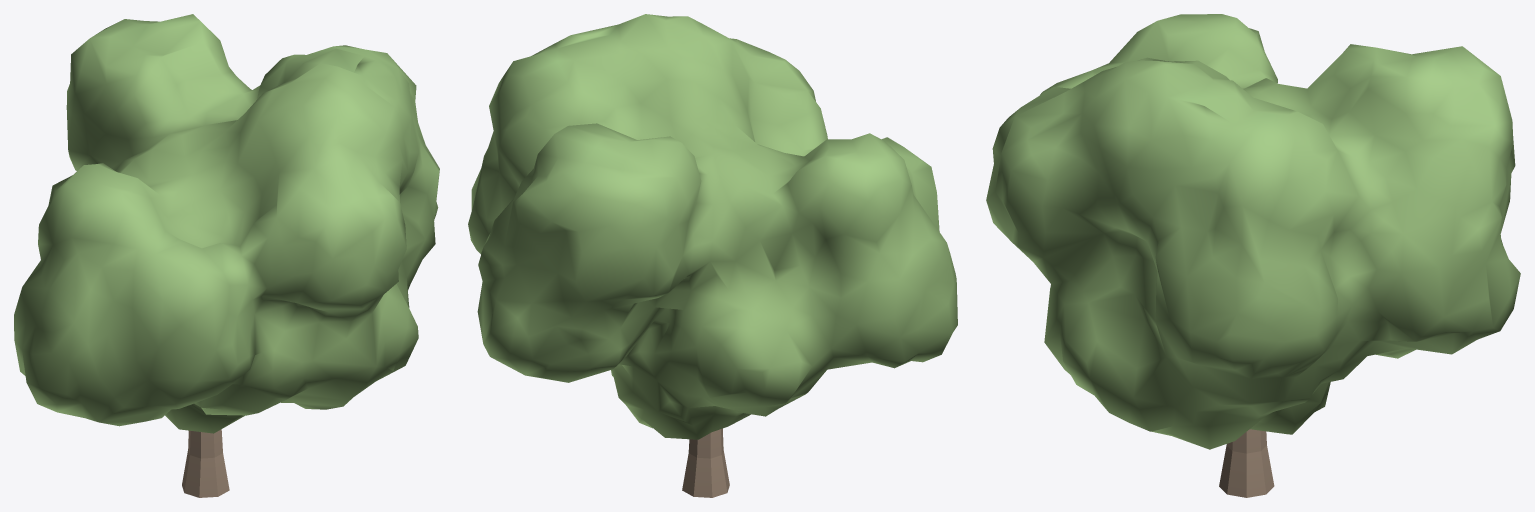
File: tree_maple.glb
The picture shows the model from 3 angles, left to right: view 1: azimuth 30°, elevation 25°; view 2: azimuth 150°, elevation 25°; view 3: azimuth 270°, elevation 25°; orthographic projection. The views are drawn at different scales.
Parts seen in each view (by area): view 1: tree_maple; view 2: tree_maple; view 3: tree_maple.
Boxes of the visible parts, x1,y1,x2,y2 form: tree_maple: (14,14,439,497); tree_maple: (468,14,957,497); tree_maple: (986,14,1520,497).
Bounding box in the file's own units: 8.21 × 7.61 × 7.76.
